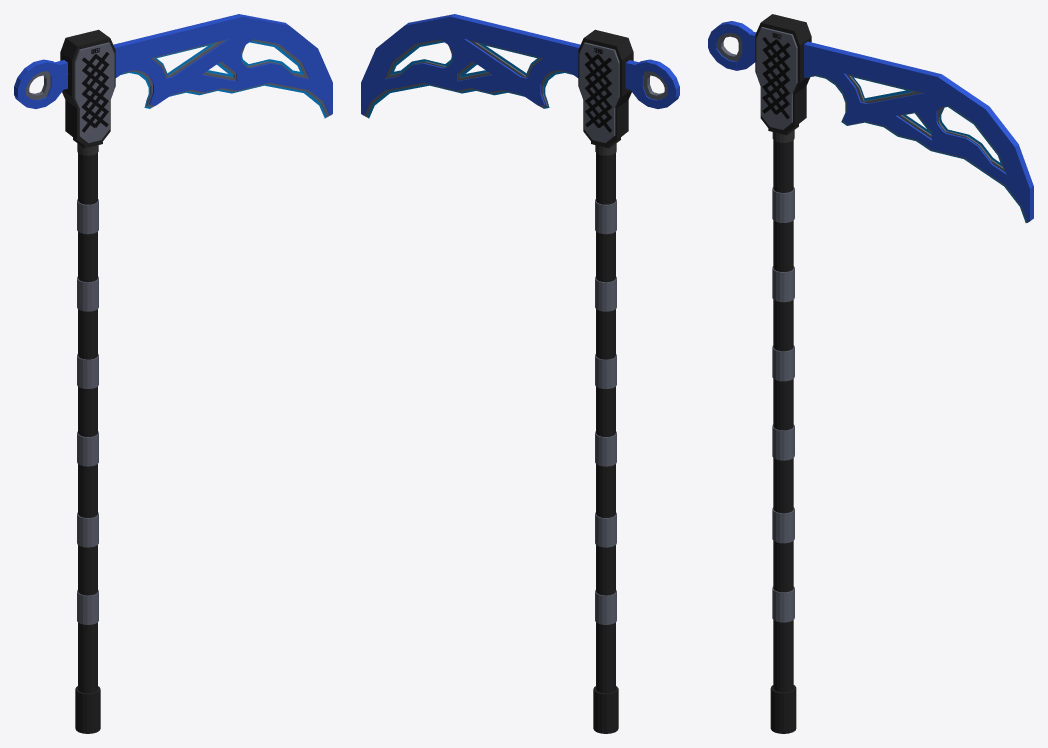
3 renders of one model, left to right at view 1: azimuth 30°, elevation 25°; view 2: azimuth 150°, elevation 25°; view 3: azimuth 330°, elevation 25°, orthographic. The views are drawn at different scales.
Visible parts, largest first — view 1: e5a03c49-0a1a-cffd-948b-ec4c700cad05_236, da01bc77-b4a0-f7bd-1d8d-1524119c8e3f_364, b9cde17d-8393-e74e-c8f1-1b33bdc68300_365, 7cfce80c-1ed7-f152-020a-3cefe0e64138_372, b8814099-4b08-57a5-548e-264161e4ac0b_366, 6d991630-f732-fdf4-9905-cdb540c84025_375, dba63645-6416-e82b-e69e-62e21d6ea1b8_367, 40bceea7-2ff4-d147-6f6f-7bedd015b62f_274, b57d0896-2ea4-ae74-83cb-645c042f1230_248, 9e1b0208-9472-6040-6b6d-42dda2f3a578_246, b5d13ac4-5742-15f1-adc6-d70b8a5ac359_235, 996e75e8-b380-b5dd-30e9-23360ec7f7fa_234 (+4 smaller); view 2: e5a03c49-0a1a-cffd-948b-ec4c700cad05_236, 488add15-a6c9-6b2d-400e-ade6d874a672_370, ffdafa2c-1fcf-44e8-ac53-53a9a4f5af74_369, b57d0896-2ea4-ae74-83cb-645c042f1230_248, cfff15ca-5bf4-8d7e-cc1a-2dcc3f195a72_371, d3c230c7-26ce-94cf-6628-b3d947febb49_368, b5d13ac4-5742-15f1-adc6-d70b8a5ac359_235, 4cd9f8af-e5b3-569f-f318-d4df6774c518_378, dba63645-6416-e82b-e69e-62e21d6ea1b8_367, 40bceea7-2ff4-d147-6f6f-7bedd015b62f_274, 236eb9fc-df76-e44e-e3cb-48c1b069b552_233, 4924f503-a740-d880-9f73-391bd2901981_225 (+4 smaller); view 3: e5a03c49-0a1a-cffd-948b-ec4c700cad05_236, 6d991630-f732-fdf4-9905-cdb540c84025_375, 47eed286-5681-5973-072b-3a4b4b8806a6_374, 7cfce80c-1ed7-f152-020a-3cefe0e64138_372, afb85c98-b41e-d82c-331b-5d515035a1fc_373, da01bc77-b4a0-f7bd-1d8d-1524119c8e3f_364, b5d13ac4-5742-15f1-adc6-d70b8a5ac359_235, 20420f2a-bf6b-9d7f-65ee-b36f2b29e988_379, 996e75e8-b380-b5dd-30e9-23360ec7f7fa_234, 40bceea7-2ff4-d147-6f6f-7bedd015b62f_274, b57d0896-2ea4-ae74-83cb-645c042f1230_248, 9e1b0208-9472-6040-6b6d-42dda2f3a578_246 (+6 smaller).
Part boxes in pixels (left/top/right/bottom): e5a03c49-0a1a-cffd-948b-ec4c700cad05_236: left=113, top=14, right=242, bottom=64; da01bc77-b4a0-f7bd-1d8d-1524119c8e3f_364: left=87, top=155, right=91, bottom=693; b9cde17d-8393-e74e-c8f1-1b33bdc68300_365: left=83, top=155, right=87, bottom=693; 7cfce80c-1ed7-f152-020a-3cefe0e64138_372: left=91, top=155, right=94, bottom=692; b8814099-4b08-57a5-548e-264161e4ac0b_366: left=80, top=154, right=83, bottom=692; 6d991630-f732-fdf4-9905-cdb540c84025_375: left=94, top=154, right=96, bottom=691; dba63645-6416-e82b-e69e-62e21d6ea1b8_367: left=78, top=154, right=80, bottom=691; 40bceea7-2ff4-d147-6f6f-7bedd015b62f_274: left=65, top=29, right=110, bottom=139; b57d0896-2ea4-ae74-83cb-645c042f1230_248: left=78, top=42, right=109, bottom=135; 9e1b0208-9472-6040-6b6d-42dda2f3a578_246: left=74, top=54, right=114, bottom=97; b5d13ac4-5742-15f1-adc6-d70b8a5ac359_235: left=239, top=14, right=289, bottom=43; 996e75e8-b380-b5dd-30e9-23360ec7f7fa_234: left=277, top=26, right=317, bottom=64; e5a03c49-0a1a-cffd-948b-ec4c700cad05_236: left=451, top=14, right=580, bottom=66; 488add15-a6c9-6b2d-400e-ade6d874a672_370: left=602, top=155, right=606, bottom=693; ffdafa2c-1fcf-44e8-ac53-53a9a4f5af74_369: left=606, top=155, right=610, bottom=693; b57d0896-2ea4-ae74-83cb-645c042f1230_248: left=584, top=42, right=615, bottom=136; cfff15ca-5bf4-8d7e-cc1a-2dcc3f195a72_371: left=599, top=155, right=602, bottom=692; d3c230c7-26ce-94cf-6628-b3d947febb49_368: left=610, top=154, right=613, bottom=692; b5d13ac4-5742-15f1-adc6-d70b8a5ac359_235: left=404, top=14, right=457, bottom=44; 4cd9f8af-e5b3-569f-f318-d4df6774c518_378: left=597, top=154, right=599, bottom=691; dba63645-6416-e82b-e69e-62e21d6ea1b8_367: left=613, top=154, right=615, bottom=691; 40bceea7-2ff4-d147-6f6f-7bedd015b62f_274: left=583, top=29, right=628, bottom=139; 236eb9fc-df76-e44e-e3cb-48c1b069b552_233: left=361, top=49, right=392, bottom=93; 4924f503-a740-d880-9f73-391bd2901981_225: left=449, top=35, right=520, bottom=85; e5a03c49-0a1a-cffd-948b-ec4c700cad05_236: left=804, top=41, right=941, bottom=96; 6d991630-f732-fdf4-9905-cdb540c84025_375: left=780, top=142, right=784, bottom=692; 47eed286-5681-5973-072b-3a4b4b8806a6_374: left=784, top=142, right=787, bottom=692; 7cfce80c-1ed7-f152-020a-3cefe0e64138_372: left=777, top=142, right=780, bottom=691; afb85c98-b41e-d82c-331b-5d515035a1fc_373: left=788, top=141, right=791, bottom=691; da01bc77-b4a0-f7bd-1d8d-1524119c8e3f_364: left=774, top=141, right=776, bottom=690; b5d13ac4-5742-15f1-adc6-d70b8a5ac359_235: left=938, top=74, right=989, bottom=122; 20420f2a-bf6b-9d7f-65ee-b36f2b29e988_379: left=791, top=140, right=793, bottom=690; 996e75e8-b380-b5dd-30e9-23360ec7f7fa_234: left=973, top=107, right=1018, bottom=157; 40bceea7-2ff4-d147-6f6f-7bedd015b62f_274: left=760, top=14, right=806, bottom=126; b57d0896-2ea4-ae74-83cb-645c042f1230_248: left=761, top=27, right=792, bottom=122; 9e1b0208-9472-6040-6b6d-42dda2f3a578_246: left=756, top=38, right=797, bottom=83.
Size of the model in its own units: 1.24 by 2.6 by 0.102.
8 materials, 8 textured.
